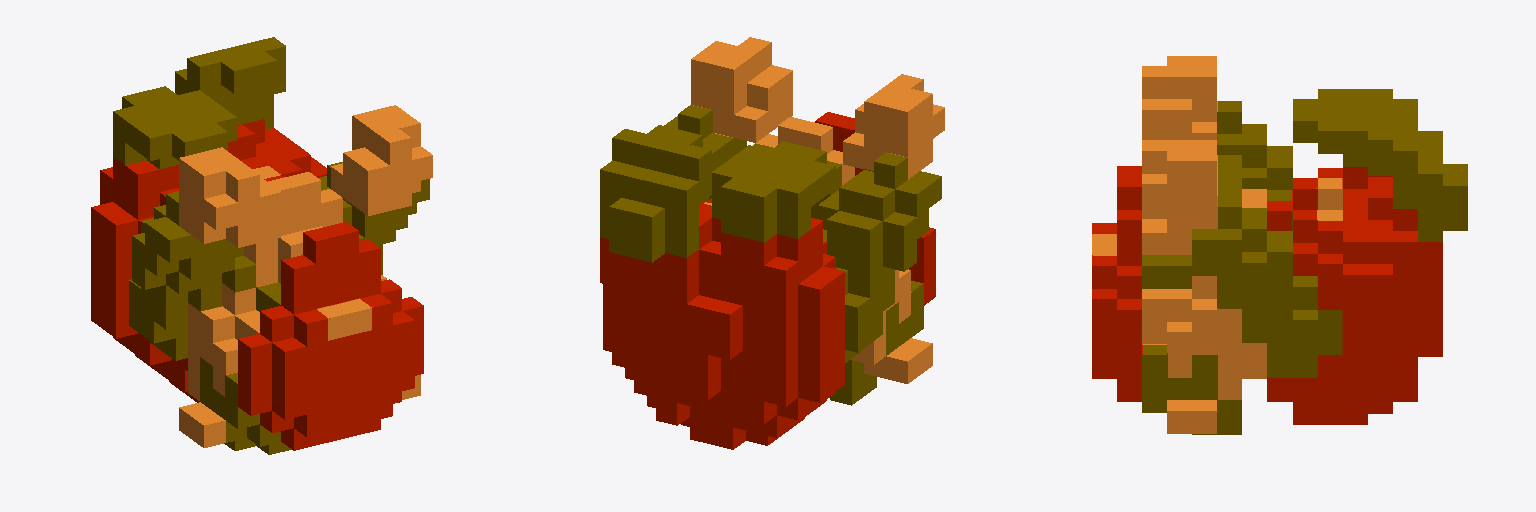
3 views of the same model, side by side, from view 1: azimuth 30°, elevation 25°; view 2: azimuth 150°, elevation 25°; view 3: azimuth 270°, elevation 25° (orthographic).
Visible parts, largest first — view 1: mario_climb2; view 2: mario_climb2; view 3: mario_climb2.
Part boxes in pixels (left/top/right/bottom): mario_climb2: left=91, top=37, right=432, bottom=454; mario_climb2: left=600, top=37, right=944, bottom=449; mario_climb2: left=1092, top=56, right=1467, bottom=434.
Size of the model in its own units: 120 by 130 by 150.
1 materials, 1 textured.